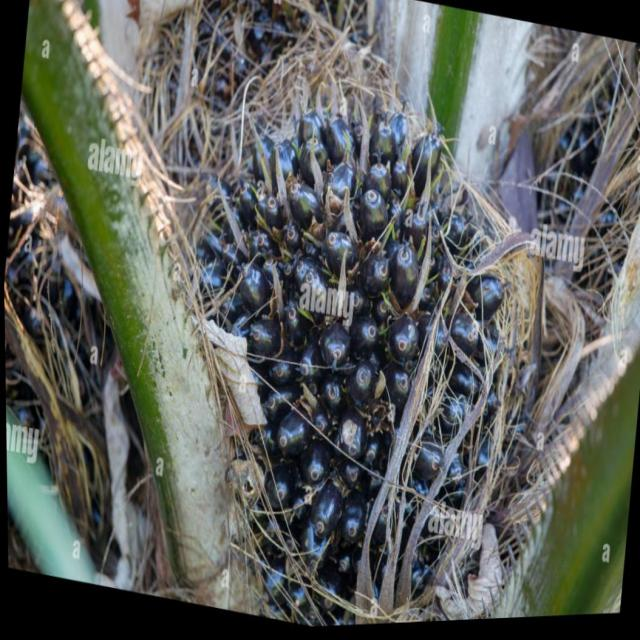Unripe: (151, 54, 553, 634)
